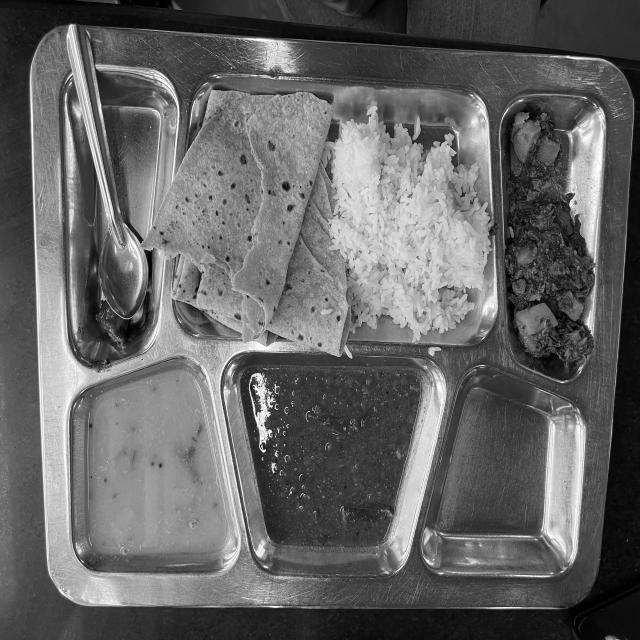100.5- Food Left: (50, 45, 626, 588)
